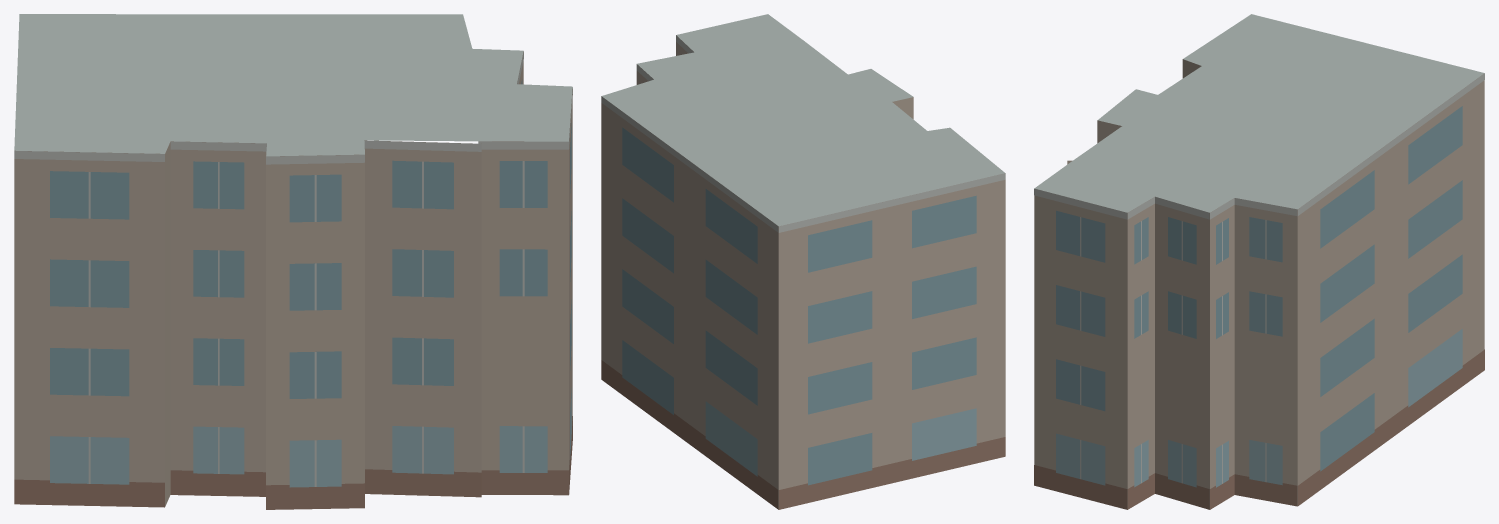
File: survey-upis-32575201.glb
The picture shows the model from 3 angles, left to right: view 1: azimuth 30°, elevation 25°; view 2: azimuth 150°, elevation 25°; view 3: azimuth 270°, elevation 25°; orthographic projection. The views are drawn at different scales.
Visible parts, largest first — view 1: survey-upis-32575201.tmp; view 2: survey-upis-32575201.tmp; view 3: survey-upis-32575201.tmp.
Boxes of the visible parts, box(x1,y1,x2,y2) form: survey-upis-32575201.tmp: box(14, 14, 572, 509); survey-upis-32575201.tmp: box(601, 14, 1005, 509); survey-upis-32575201.tmp: box(1034, 14, 1484, 509).
Bounding box in the file's own units: 15.08 × 10.5 × 14.44.
